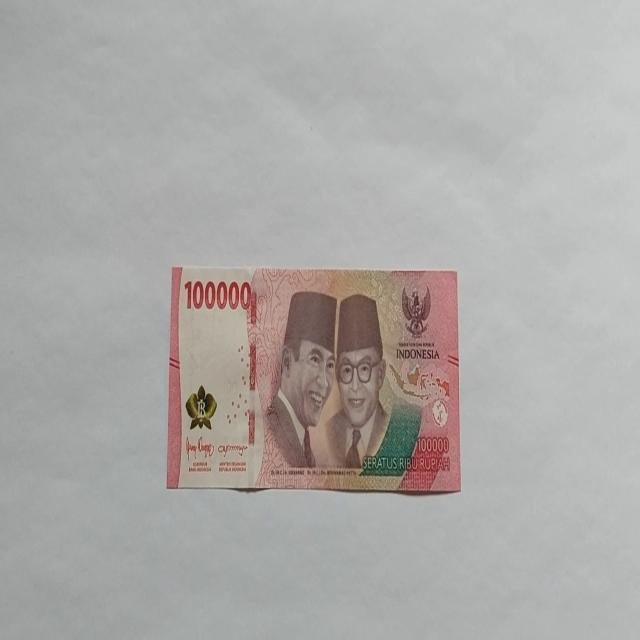seratus ribu rupiah: (166, 264, 461, 494)
